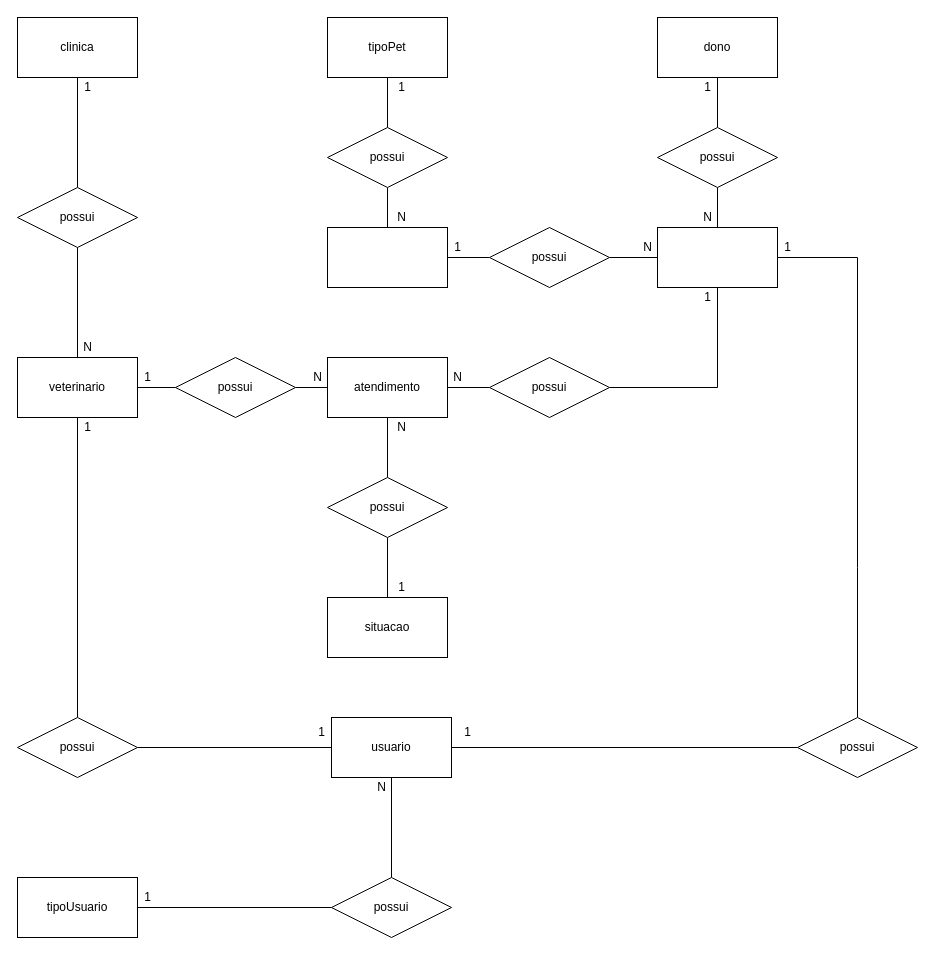
Some shapes in this 935 by 955 pixel diagram are drawn without their labels. Each missing label, with the centre of its shape:
pet: the point at 717,257
raca: the point at 387,257
